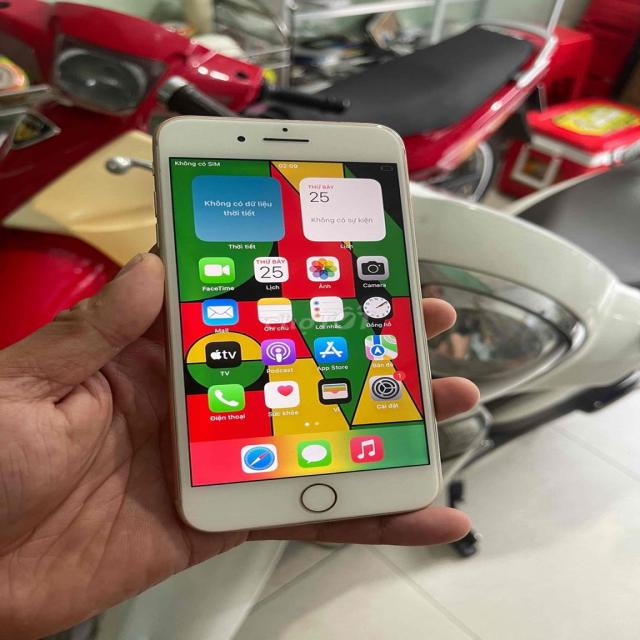gen_7_8: (153, 116, 441, 534)
